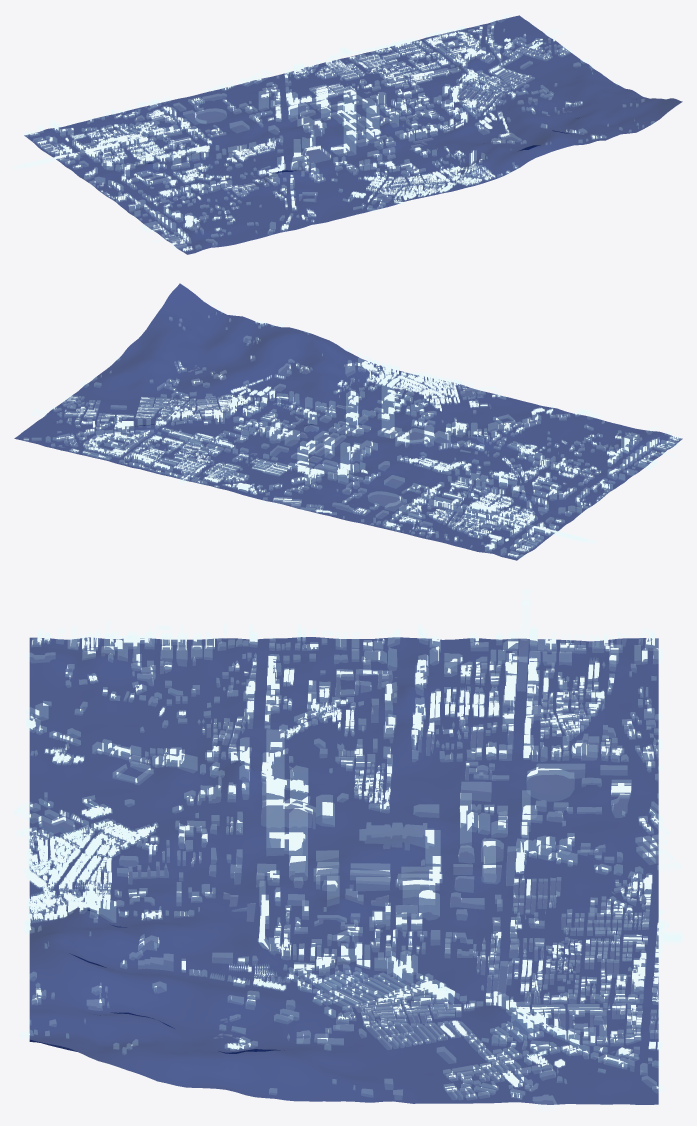
The model's file is XinyiDist_min.glb.
3 views of the same model, one above another, from view 1: azimuth 30°, elevation 25°; view 2: azimuth 150°, elevation 25°; view 3: azimuth 270°, elevation 25° (orthographic). The views are drawn at different scales.
Parts seen in each view (by area): view 1: EXPORT_OSM_MAPNIK_WM.002, Areas:building; view 2: EXPORT_OSM_MAPNIK_WM.002, Areas:building; view 3: EXPORT_OSM_MAPNIK_WM.002, Areas:building.
Part boxes in pixels (box(x1,y1,x2,y2)): EXPORT_OSM_MAPNIK_WM.002: box(24, 15, 682, 254); Areas:building: box(14, 15, 654, 251); EXPORT_OSM_MAPNIK_WM.002: box(14, 283, 682, 560); Areas:building: box(24, 301, 680, 557); EXPORT_OSM_MAPNIK_WM.002: box(29, 637, 658, 1104); Areas:building: box(14, 589, 682, 1107).
Size of the model in its own units: 4743 by 533 by 2602.
